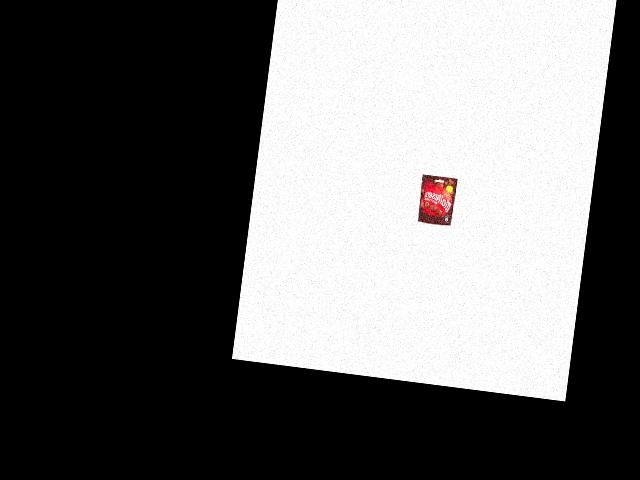chocolate: (415, 173, 457, 227)
